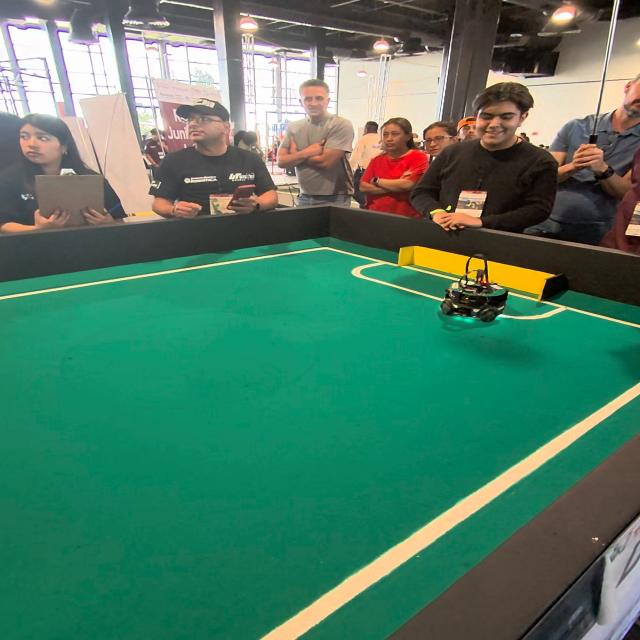Robot: (440, 251, 510, 328)
